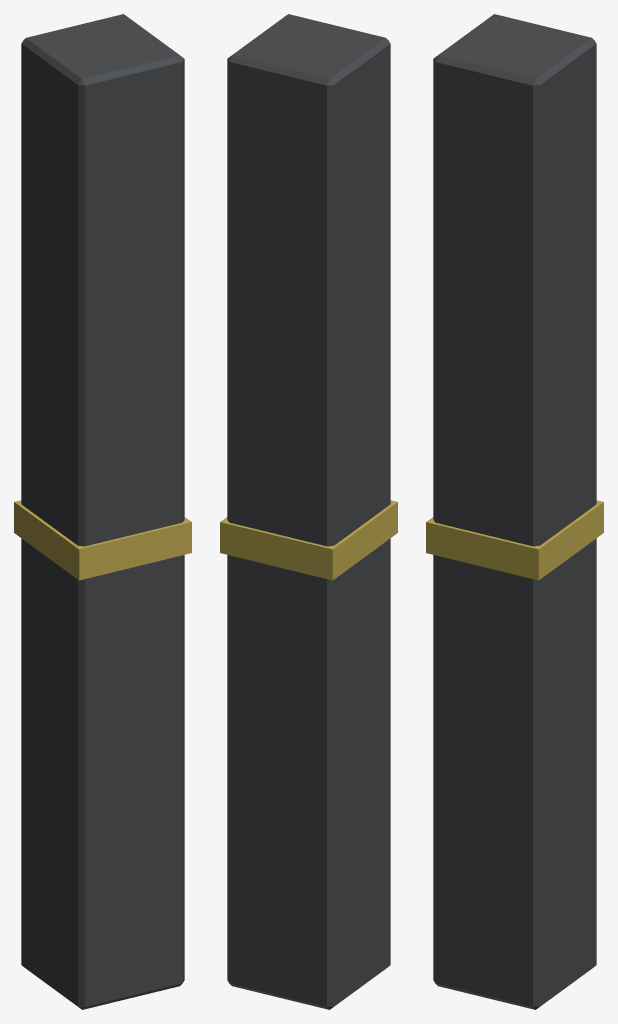
File: wall_post.glb
The picture shows the model from 3 angles, left to right: view 1: azimuth 30°, elevation 25°; view 2: azimuth 150°, elevation 25°; view 3: azimuth 330°, elevation 25°; orthographic projection.
Parts seen in each view (by area): view 1: wall_post; view 2: wall_post; view 3: wall_post.
Boxes of the visible parts, x1=… form: wall_post: x1=14, y1=14, x2=191, y2=1009; wall_post: x1=220, y1=14, x2=397, y2=1009; wall_post: x1=426, y1=14, x2=603, y2=1009.
Bounding box in the file's own units: 0.38 × 3 × 0.38.
